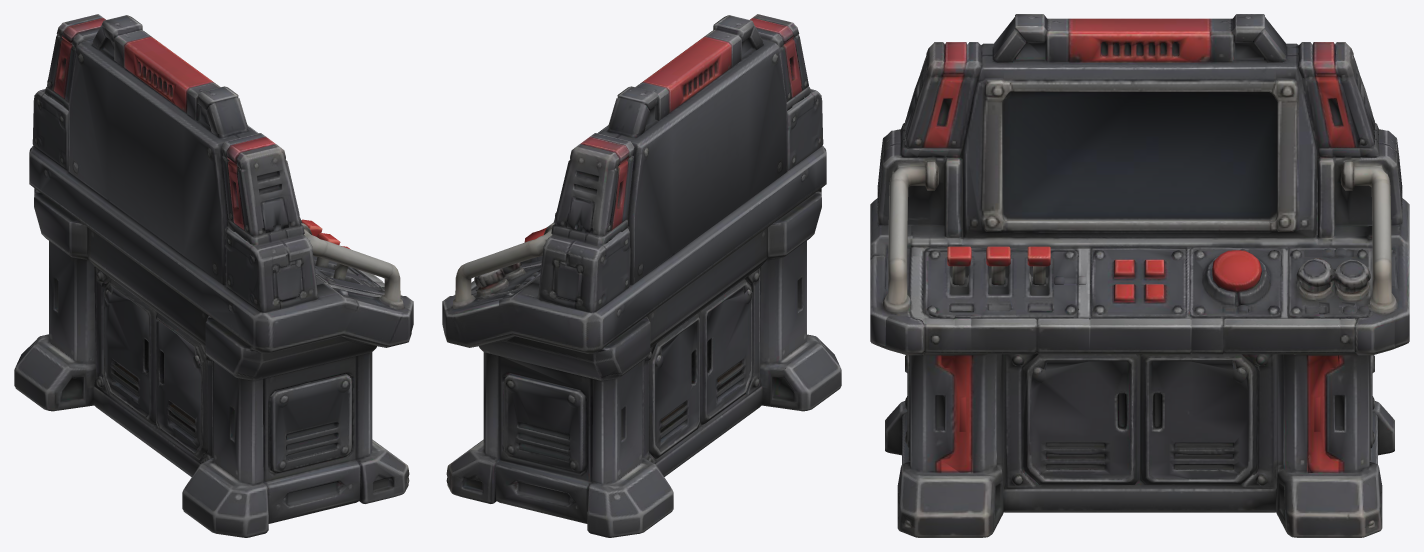
File: pack-arcade-console.glb
3 views of the same model, side by side, from view 1: azimuth 30°, elevation 25°; view 2: azimuth 150°, elevation 25°; view 3: azimuth 270°, elevation 25° (orthographic). The views are drawn at different scales.
Parts seen in each view (by area): view 1: tripo_node_224ebe49-51d5-4e83-a4a1-cb2d604f22a4; view 2: tripo_node_224ebe49-51d5-4e83-a4a1-cb2d604f22a4; view 3: tripo_node_224ebe49-51d5-4e83-a4a1-cb2d604f22a4.
Part boxes in pixels (box(x1,y1,x2,y2)): tripo_node_224ebe49-51d5-4e83-a4a1-cb2d604f22a4: box(14, 14, 413, 537); tripo_node_224ebe49-51d5-4e83-a4a1-cb2d604f22a4: box(442, 14, 841, 537); tripo_node_224ebe49-51d5-4e83-a4a1-cb2d604f22a4: box(870, 14, 1409, 537).
Bounding box in the file's own units: 0.4648 × 0.8818 × 0.9775.
Materials: 1 (1 with a texture image).
